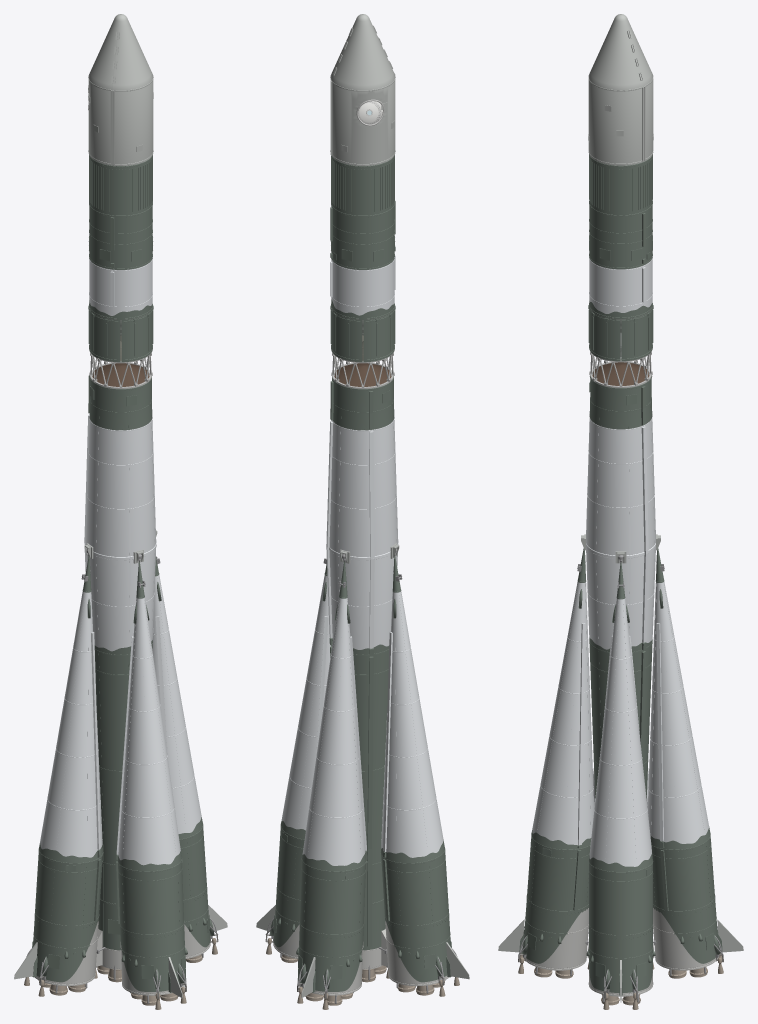
Rendered from vehicle.glb.
3 renders of one model, left to right at view 1: azimuth 30°, elevation 25°; view 2: azimuth 150°, elevation 25°; view 3: azimuth 270°, elevation 25°, orthographic.
Visible parts, largest first — view 1: Core_Frost, Booster_D_Frost, Booster_G_Frost, Core_Skin, Booster_D_Skin, BlockI_Fittings, Booster_G_Skin, Booster_B_Frost, Fairing_Right_Fittings, Fairing_Left_Fittings, BlockI_Frost, Booster_B_Skin (+6 smaller); view 2: Core_Frost, Booster_V_Frost, Booster_G_Frost, Core_Skin, Booster_V_Skin, Fairing_Left_Fittings, BlockI_Fittings, Booster_G_Skin, Booster_B_Frost, BlockI_Frost, Booster_B_Skin, Core_Fittings (+7 smaller); view 3: Core_Frost, Booster_B_Frost, Booster_D_Frost, Booster_V_Frost, Booster_B_Skin, BlockI_Fittings, Fairing_Right_Fittings, Booster_V_Skin, Booster_D_Skin, Core_Skin, BlockI_Frost, Booster_D_Shield (+7 smaller).
Part boxes in pixels (x1,y1,x2,y2): Core_Frost: [84, 414, 156, 651]; Booster_D_Frost: [116, 597, 180, 865]; Booster_G_Frost: [40, 591, 102, 857]; Core_Skin: [89, 376, 152, 950]; Booster_D_Skin: [117, 562, 186, 991]; BlockI_Fittings: [89, 155, 152, 319]; Booster_G_Skin: [33, 556, 103, 982]; Booster_B_Frost: [152, 575, 201, 833]; Fairing_Right_Fittings: [112, 14, 153, 165]; Fairing_Left_Fittings: [88, 14, 120, 165]; BlockI_Frost: [89, 257, 152, 315]; Booster_B_Skin: [155, 557, 210, 947]; Core_Frost: [326, 417, 398, 649]; Booster_V_Frost: [302, 597, 366, 865]; Booster_G_Frost: [381, 591, 443, 857]; Core_Skin: [331, 376, 394, 950]; Booster_V_Skin: [297, 562, 366, 991]; Fairing_Left_Fittings: [331, 14, 395, 165]; BlockI_Fittings: [330, 155, 395, 319]; Booster_G_Skin: [380, 556, 450, 982]; Booster_B_Frost: [281, 575, 331, 830]; BlockI_Frost: [330, 255, 395, 315]; Booster_B_Skin: [273, 564, 327, 947]; Core_Fittings: [329, 381, 390, 946]; Core_Frost: [586, 417, 655, 649]; Booster_B_Frost: [589, 598, 651, 866]; Booster_D_Frost: [532, 582, 594, 845]; Booster_V_Frost: [647, 582, 708, 843]; Booster_B_Skin: [588, 562, 653, 992]; BlockI_Fittings: [589, 154, 652, 319]; Fairing_Right_Fittings: [588, 14, 644, 165]; Booster_V_Skin: [650, 548, 717, 963]; Booster_D_Skin: [523, 548, 591, 963]; Core_Skin: [589, 375, 652, 798]; BlockI_Frost: [589, 256, 652, 313]; Booster_D_Shield: [522, 908, 588, 970].
Bounding box in the file's own units: 10.27 × 44.21 × 10.27.
